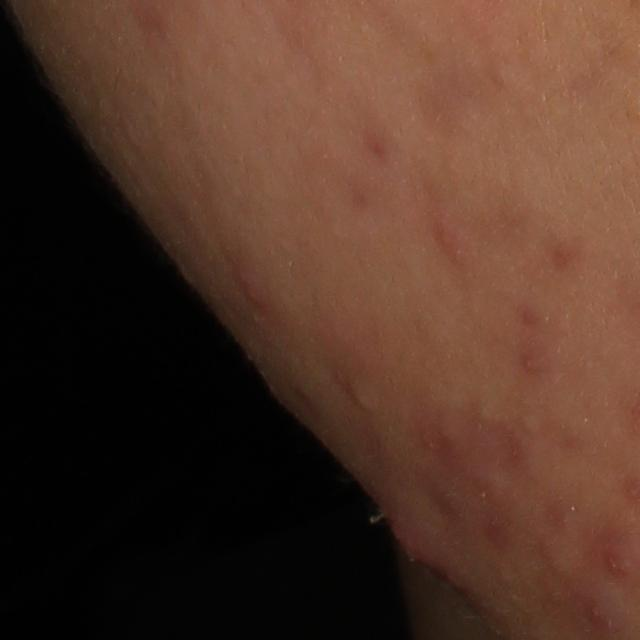comedo: (340, 373, 390, 422), (521, 410, 549, 444)
papule: (388, 510, 440, 576), (434, 212, 472, 267), (238, 273, 269, 314), (584, 595, 618, 629)
